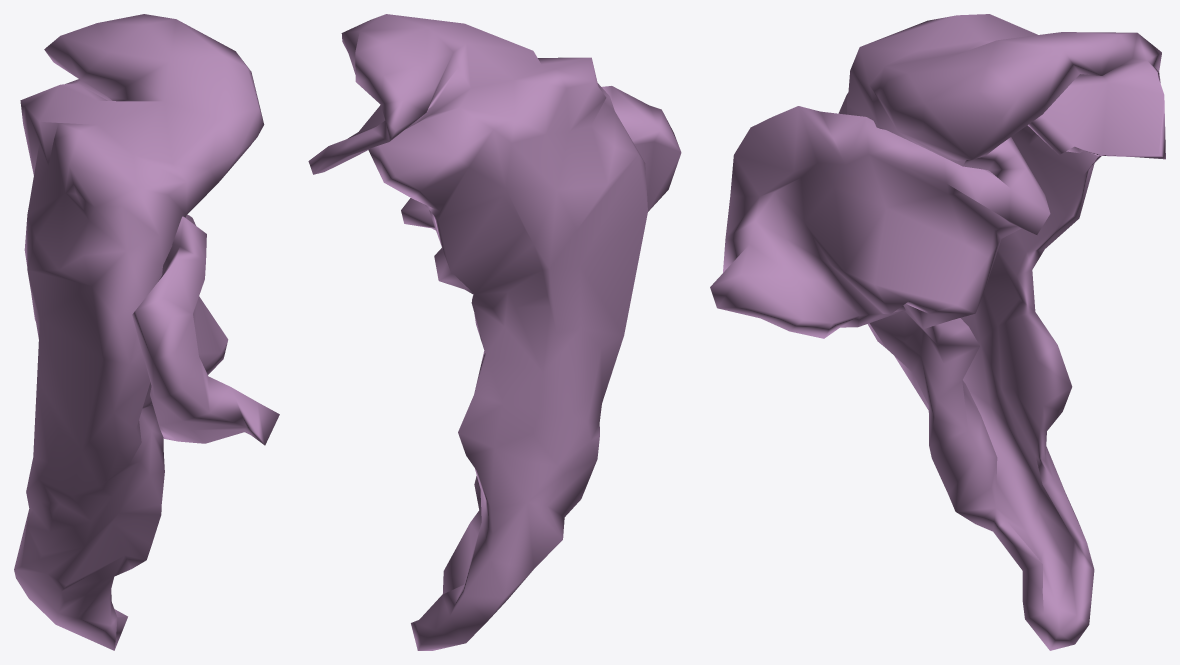
The picture shows the model from 3 angles, left to right: view 1: azimuth 30°, elevation 25°; view 2: azimuth 150°, elevation 25°; view 3: azimuth 270°, elevation 25°; orthographic projection. The views are drawn at different scales.
Visible parts, largest first — view 1: 左侧楔叶; view 2: 左侧楔叶; view 3: 左侧楔叶.
Part boxes in pixels (box(x1,y1,x2,y2)): 左侧楔叶: box(14, 14, 279, 650); 左侧楔叶: box(308, 14, 681, 650); 左侧楔叶: box(710, 14, 1165, 650).
Bounding box in the file's own units: 0.0287 × 0.0728 × 0.0472.
